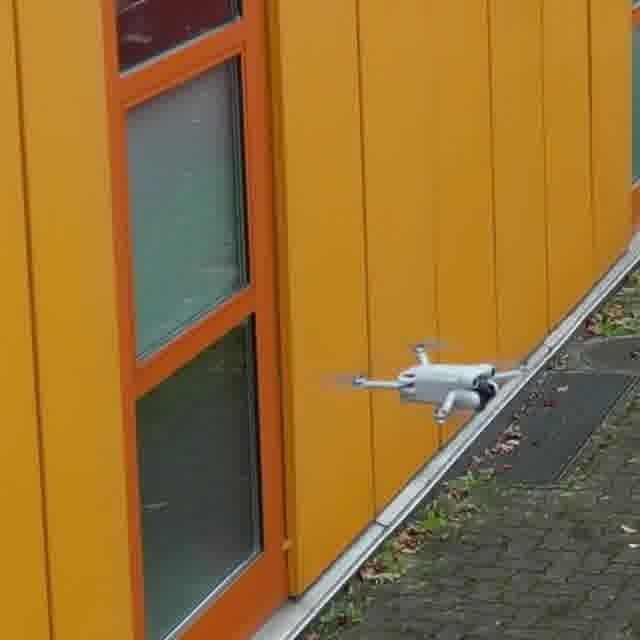Drohne: (336, 341, 526, 425)
